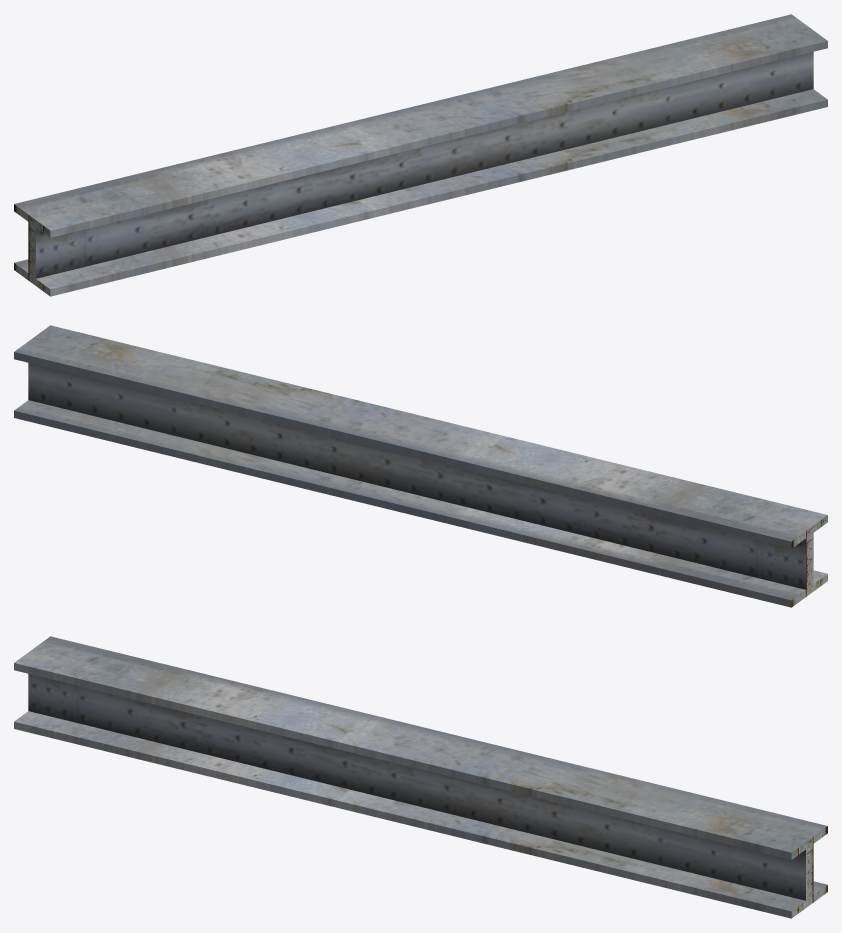
The model's file is metal.fbx.
3 views of the same model, one above another, from view 1: azimuth 30°, elevation 25°; view 2: azimuth 150°, elevation 25°; view 3: azimuth 330°, elevation 25° (orthographic).
Parts seen in each view (by area): view 1: metal; view 2: metal; view 3: metal.
Boxes of the visible parts, x1,y1,x2,y2 form: metal: [14, 14, 827, 296]; metal: [14, 325, 827, 607]; metal: [14, 636, 827, 918].
Bounding box in the file's own units: 7.44 × 0.603 × 0.603.
